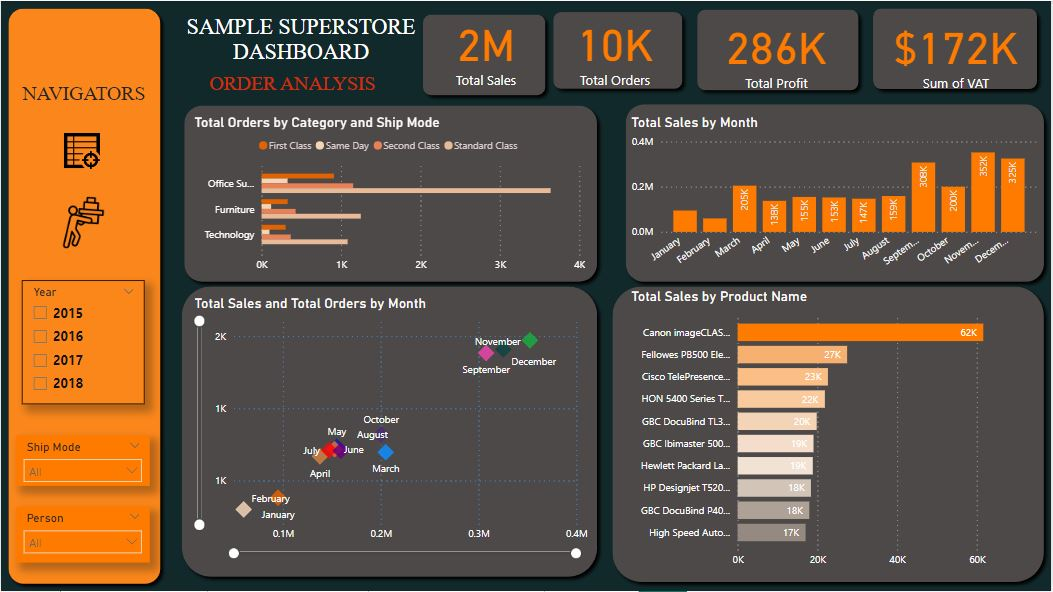

The page's visual inventory and layout, read from the dashboard file:
{"tool":"powerbi","page":{"name":"Order Analysis","canvas":[1280,720],"ordinal":0},"visuals":[{"type":"shape","box":[0,0,203.3,719.7],"z":0},{"type":"image","title":"Order Analysis","box":[54.1,154.1,90.2,57.4],"z":1000},{"type":"textbox","box":[151.4,11.4,428.6,92.9],"z":2000},{"type":"textbox","box":[248.6,82.9,232.9,41.4],"z":3000},{"type":"shape","box":[214.8,118,521.3,232.8],"z":4000},{"type":"shape","box":[839.3,1.6,214.8,116.4],"z":5000},{"type":"shape","box":[1054.1,0,218,116.4],"z":6000},{"type":"shape","box":[211.5,339.3,524.6,372.1],"z":7000},{"type":"shape","box":[736.1,339.3,544.3,378.7],"z":8000},{"type":"shape","box":[752.5,116.4,527.9,234.4],"z":9000},{"type":"image","box":[55.7,234.4,90.2,72.1],"z":10000},{"type":"textbox","box":[21.3,95.1,182,42.6],"z":11000},{"type":"slicer","fields":{"Values":["Orders.Order Date.Variation.Date Hierarchy.Year"]},"box":[25.4,339.8,149.7,151.2],"z":12000},{"type":"slicer","fields":{"Values":["Orders.Ship Mode"]},"box":[18.2,529,163.7,62.2],"z":13000},{"type":"slicer","fields":{"Values":["People.Person"]},"box":[18.2,617,163.7,68.2],"z":14000},{"type":"columnChart","fields":{"Category":["Orders.Order Date.Variation.Date Hierarchy.Month"],"Y":["Measure.Total Sales"]},"box":[763.9,137.7,504.9,196.7],"z":15000},{"type":"clusteredBarChart","fields":{"Y":["Measure.Total Sales"],"Category":["Orders.Product Name"]},"box":[763.9,350.8,486.9,349.2],"z":16000},{"type":"scatterChart","fields":{"Series":["Orders.Order Date.Variation.Date Hierarchy.Month"],"Y":["Measure.Total Orders"],"X":["Measure.Total Sales"]},"box":[230.5,359.2,489.4,326.3],"z":17000},{"type":"card","fields":{"Values":["Measure.Total Profit"]},"box":[839.3,11.5,211.5,100],"z":18000},{"type":"card","fields":{"Values":["Sum(Orders.VAT)"]},"box":[1060.7,11.5,208.2,100],"z":19000},{"type":"shape","box":[663.9,4.9,175.4,111.5],"z":20000},{"type":"shape","box":[504.9,8.2,167.2,116.4],"z":21000},{"type":"card","fields":{"Values":["Measure.Total Orders"]},"box":[663.9,6.6,168.9,103.3],"z":22000},{"type":"card","fields":{"Values":["Measure.Total Sales"]},"box":[504.9,6.6,172.1,103.3],"z":23000},{"type":"clusteredBarChart","fields":{"Y":["Measure.Total Orders"],"Category":["Orders.Category"],"Series":["Orders.Ship Mode"]},"box":[230.5,137.7,486.5,202.1],"z":24000}]}

Visuals, with their boxes in screenshot pixels (x1, y1, x2, y2), scaled from the page's 1280x720 canvas onto the 1053x592 screenshot:
shape: 0, 0, 167, 591
"Order Analysis" image: 45, 127, 119, 174
textbox: 125, 9, 477, 86
textbox: 205, 68, 396, 102
shape: 177, 97, 606, 288
shape: 690, 1, 867, 97
shape: 867, 0, 1047, 96
shape: 174, 279, 606, 585
shape: 606, 279, 1052, 590
shape: 619, 96, 1052, 288
image: 46, 193, 120, 252
textbox: 18, 78, 167, 113
slicer - Orders.Order Date.Variation.Date Hierarchy.Year: 21, 279, 144, 404
slicer - Orders.Ship Mode: 15, 435, 150, 486
slicer - People.Person: 15, 507, 150, 563
columnChart - Orders.Order Date.Variation.Date Hierarchy.Month x Measure.Total Sales: 628, 113, 1044, 275
clusteredBarChart - Measure.Total Sales x Orders.Product Name: 628, 288, 1029, 576
scatterChart - Orders.Order Date.Variation.Date Hierarchy.Month x Measure.Total Orders: 190, 295, 592, 564
card - Measure.Total Profit: 690, 9, 864, 92
card - Sum(Orders.VAT): 873, 9, 1044, 92
shape: 546, 4, 690, 96
shape: 415, 7, 553, 102
card - Measure.Total Orders: 546, 5, 685, 90
card - Measure.Total Sales: 415, 5, 557, 90
clusteredBarChart - Measure.Total Orders x Orders.Category: 190, 113, 590, 279
